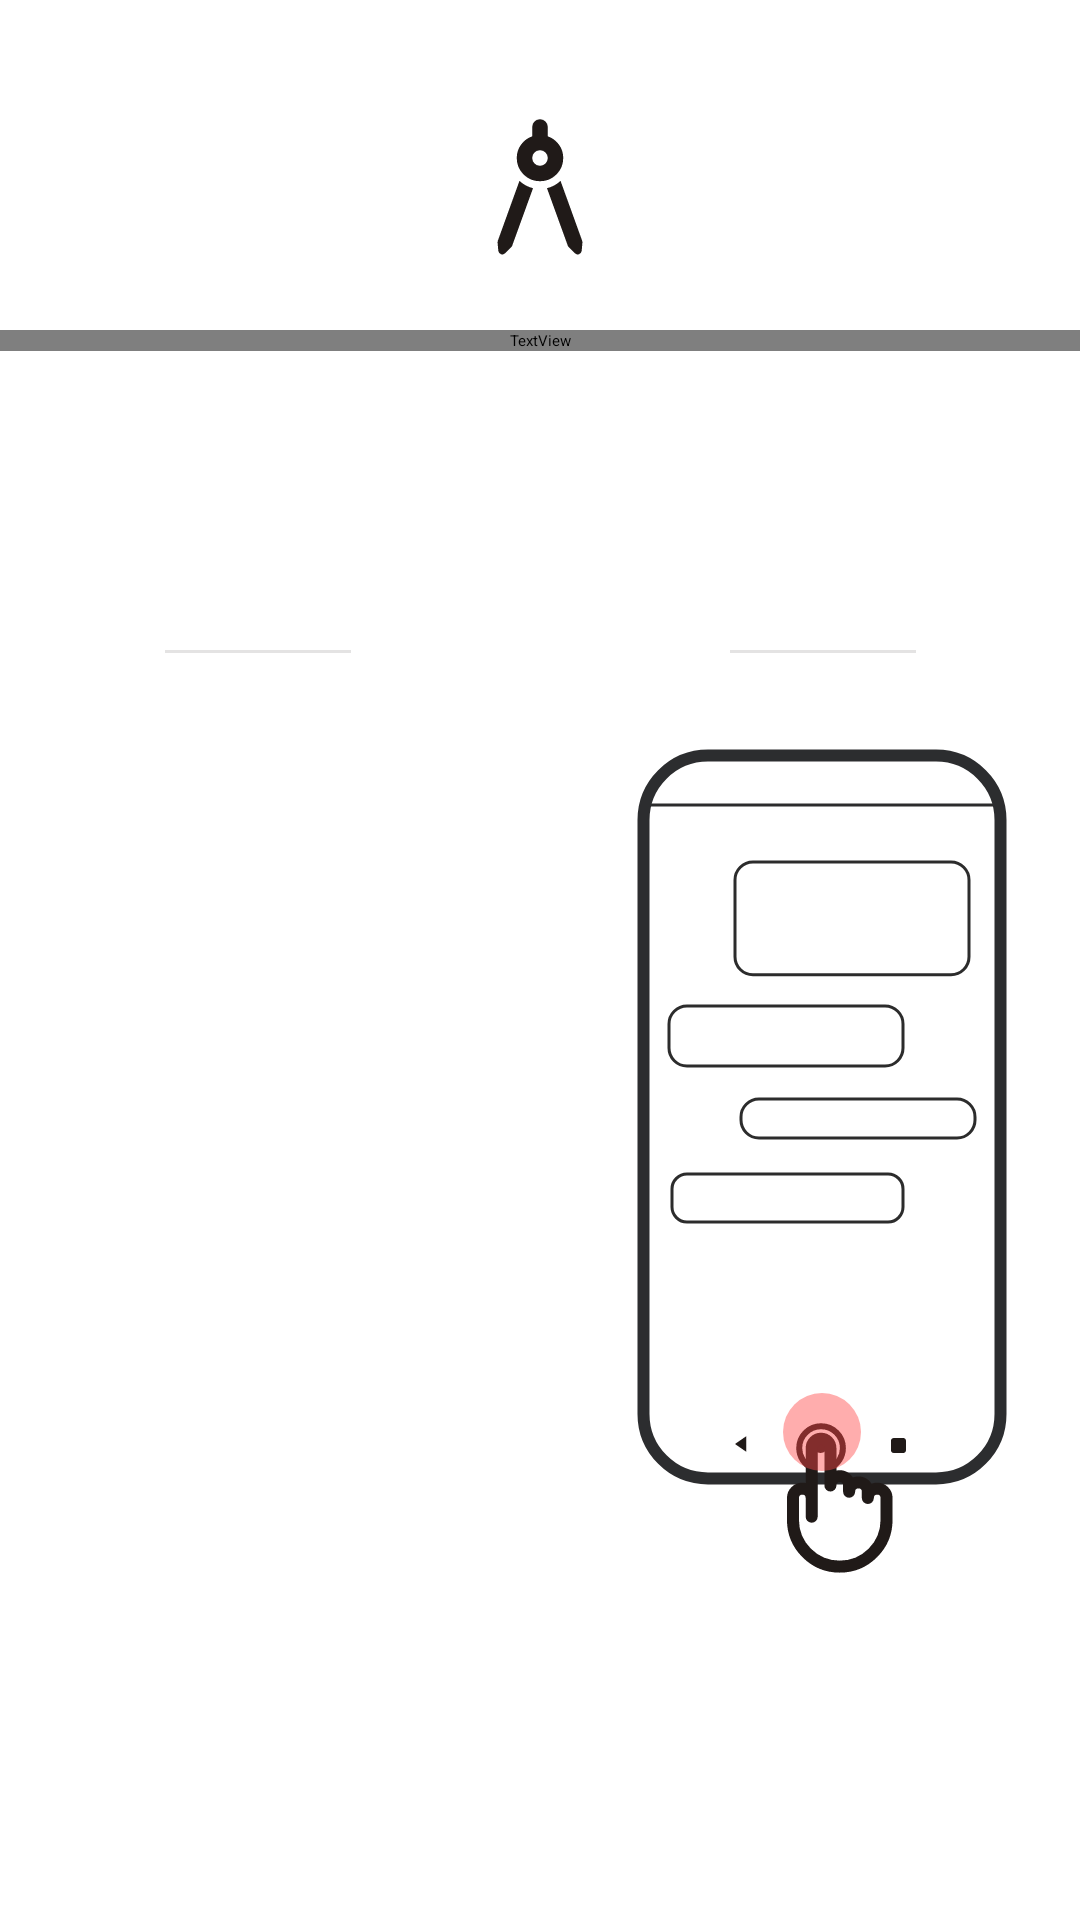

Icon click points for this 1080w x 1920h phone screenshot, format (x=x, y=y):
architecture: (x=540, y=187)
